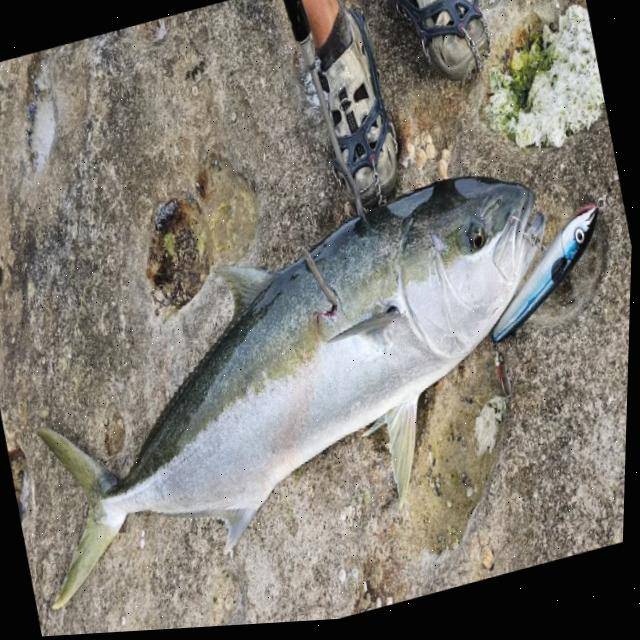Kingfish: (0, 149, 606, 625)
